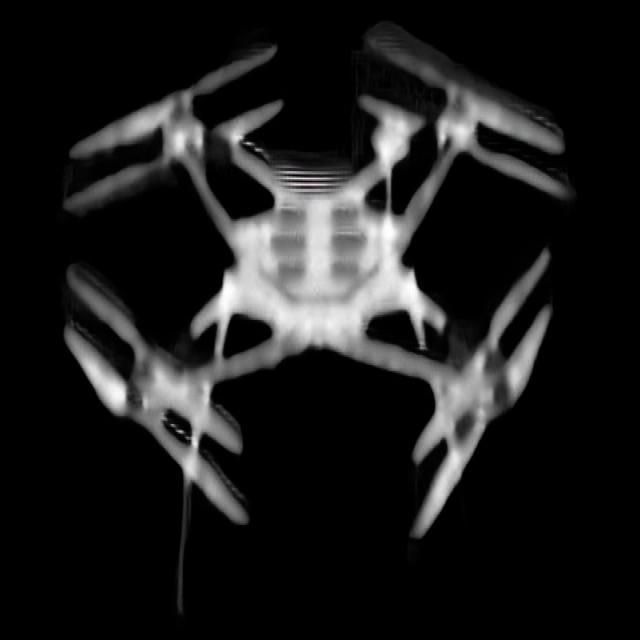drone: (54, 16, 586, 546)
